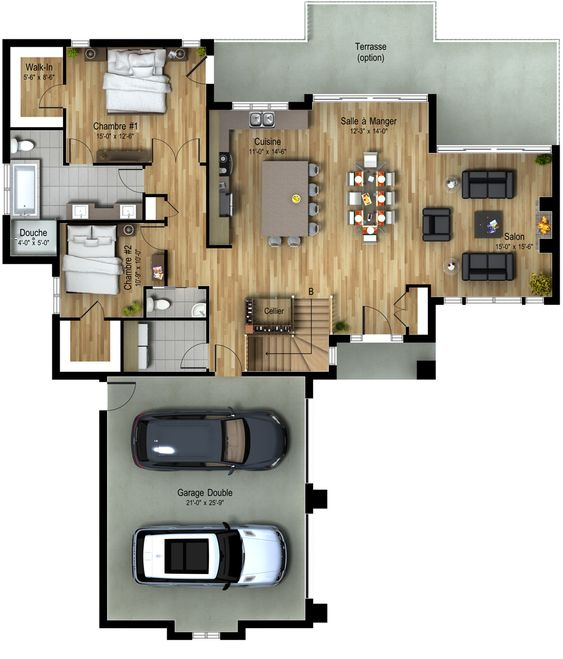door: (149, 133, 204, 159), (110, 380, 138, 410), (212, 337, 240, 367), (175, 339, 203, 369), (33, 80, 61, 110), (359, 300, 387, 330), (389, 293, 411, 326), (66, 134, 96, 157), (184, 55, 204, 85), (166, 195, 189, 221), (138, 224, 162, 247), (80, 298, 111, 315)
